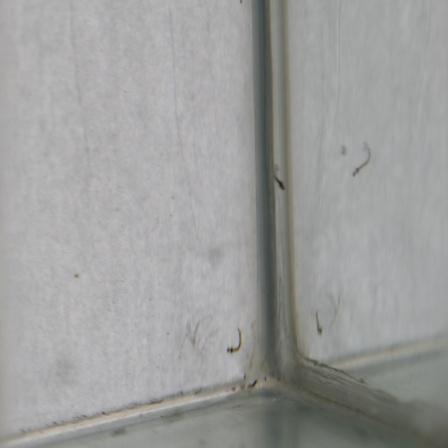Jentik-Nyamuk: (225, 326, 247, 356), (268, 164, 288, 193)
